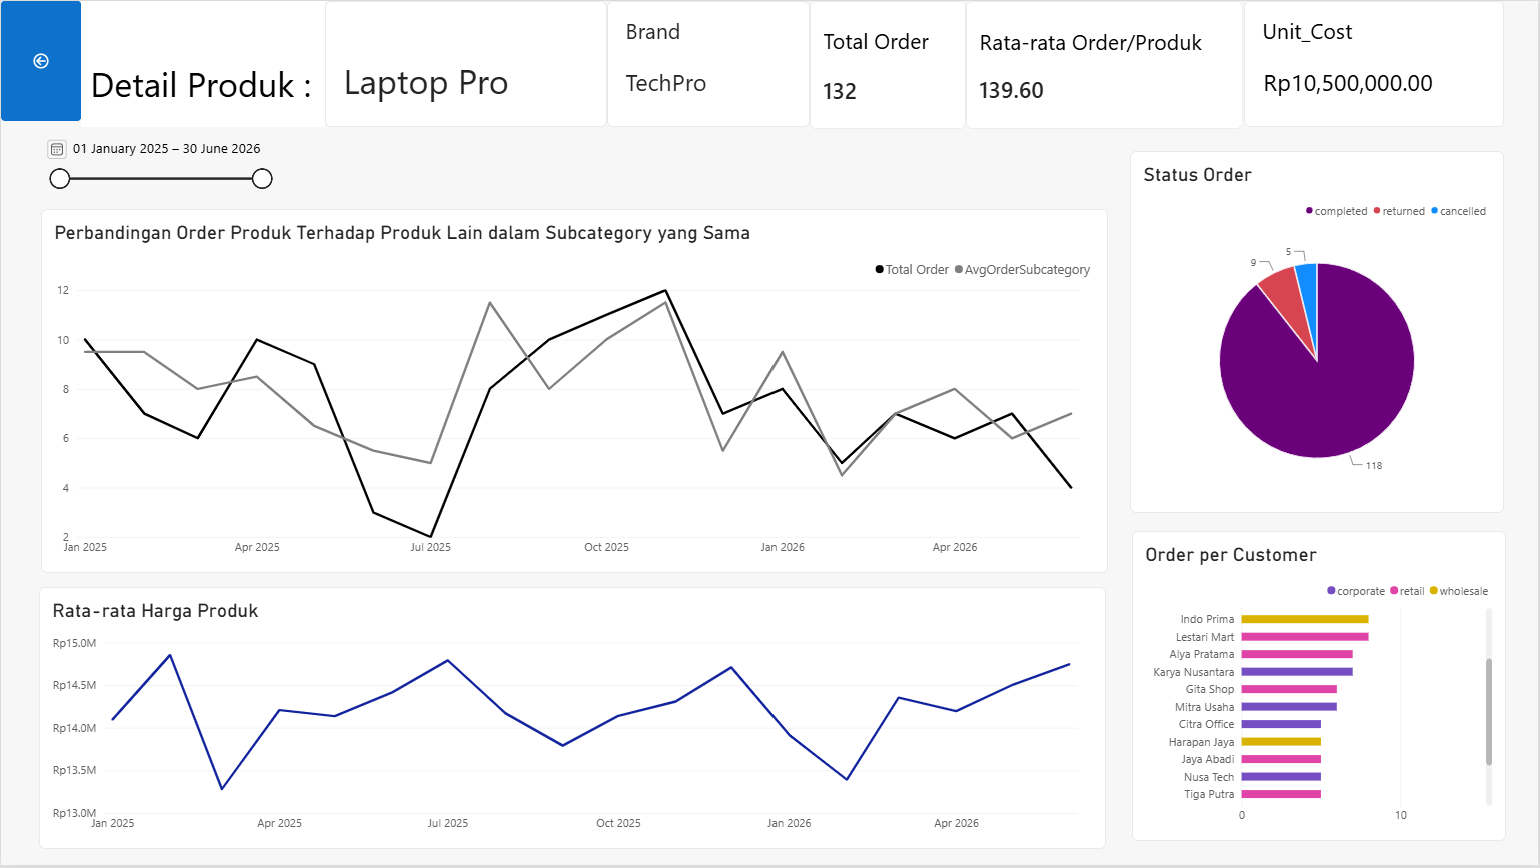

The dashboard page shown, as its layout file describes it:
{"tool":"powerbi","page":{"name":"Product Details","canvas":[1920,1080],"ordinal":1},"visuals":[{"type":"actionButton","box":[0,0,100,40],"z":0},{"type":"cardVisual","fields":{"Data":["sales_all.Total Order"]},"box":[1010,0,195,160],"z":1000},{"type":"actionButton","box":[0,0,100,150],"z":2000},{"type":"tableEx","fields":{"Values":["products_raw.Product_Name"]},"box":[405,0,352.5,157.5],"z":3000},{"type":"textbox","box":[100,0,305,157.5],"z":4000},{"type":"tableEx","fields":{"Values":["products_raw.Unit_Cost"]},"box":[1552.5,0,325,157.5],"z":5000},{"type":"tableEx","fields":{"Values":["products_raw.Brand"]},"box":[758,0,252.5,157.5],"z":6000},{"type":"lineChart","title":"Perbandingan Order Produk Terhadap Produk Lain dalam Subcategory yang Sama","fields":{"Category":["DateTable.Date.Variation.Date Hierarchy.Year","DateTable.Date.Variation.Date Hierarchy.Month"],"Y":["sales_all.order_subcategory","sales_all.Total Order"]},"box":[50,260,1332.5,455],"z":7000},{"type":"pieChart","title":"Status Order","fields":{"Category":["sales_all.Order_Status"],"Y":["CountNonNull(sales_all.Order_ID)"]},"box":[1410,187.5,467.5,452.5],"z":8000},{"type":"barChart","title":"Order per Customer","fields":{"Category":["Customers_Raw.Customer_Name"],"Series":["Customers_Raw.Segment"],"Y":["CountNonNull(sales_all.Order_ID)"]},"box":[1412.5,662.5,467.5,387.5],"z":9000},{"type":"slicer","fields":{"Values":["DateTable.Date"]},"box":[50,167.5,292.5,92.5],"z":10000},{"type":"lineChart","title":"Rata-rata Harga Produk","fields":{"Category":["DateTable.Date.Variation.Date Hierarchy.Year","DateTable.Date.Variation.Date Hierarchy.Month"],"Y":["Avg(sales_all.Unit_Price)"]},"box":[47.5,732.5,1332.5,327.5],"z":11000},{"type":"cardVisual","fields":{"Data":["sales_all.Avg Rows per Category (All)"]},"box":[1206,0,346,160],"z":12000}]}

Visuals, with their boxes in screenshot pixels (x1, y1, x2, y2), scaled from the page's 1920x1080 canvas onto the 1540x868 screenshot:
actionButton: [left=0, top=0, right=80, bottom=32]
cardVisual - sales_all.Total Order: [left=810, top=0, right=967, bottom=129]
actionButton: [left=0, top=0, right=80, bottom=121]
tableEx - products_raw.Product_Name: [left=325, top=0, right=608, bottom=127]
textbox: [left=80, top=0, right=325, bottom=127]
tableEx - products_raw.Unit_Cost: [left=1245, top=0, right=1506, bottom=127]
tableEx - products_raw.Brand: [left=608, top=0, right=811, bottom=127]
"Perbandingan Order Produk Terhadap Produk Lain dalam Subcategory yang Sama" lineChart: [left=40, top=209, right=1109, bottom=575]
"Status Order" pieChart: [left=1131, top=151, right=1506, bottom=514]
"Order per Customer" barChart: [left=1133, top=532, right=1508, bottom=844]
slicer - DateTable.Date: [left=40, top=135, right=275, bottom=209]
"Rata-rata Harga Produk" lineChart: [left=38, top=589, right=1107, bottom=852]
cardVisual - sales_all.Avg Rows per Category (All): [left=967, top=0, right=1245, bottom=129]
